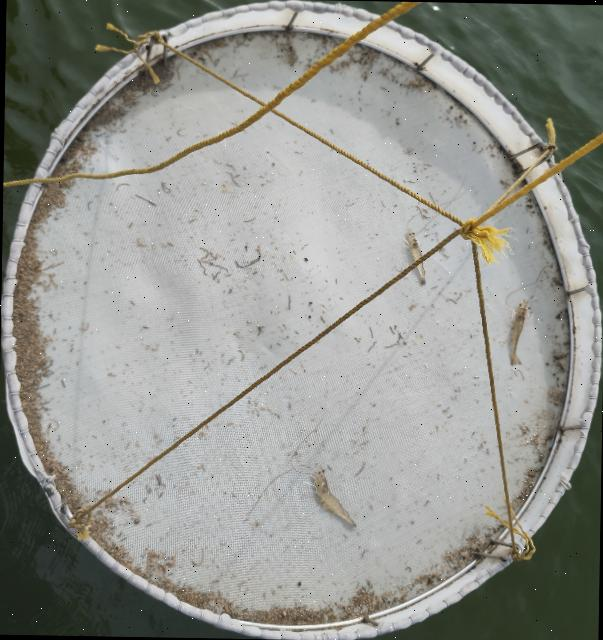shrimp: (309, 467, 354, 529), (509, 301, 528, 366), (406, 229, 425, 286)
